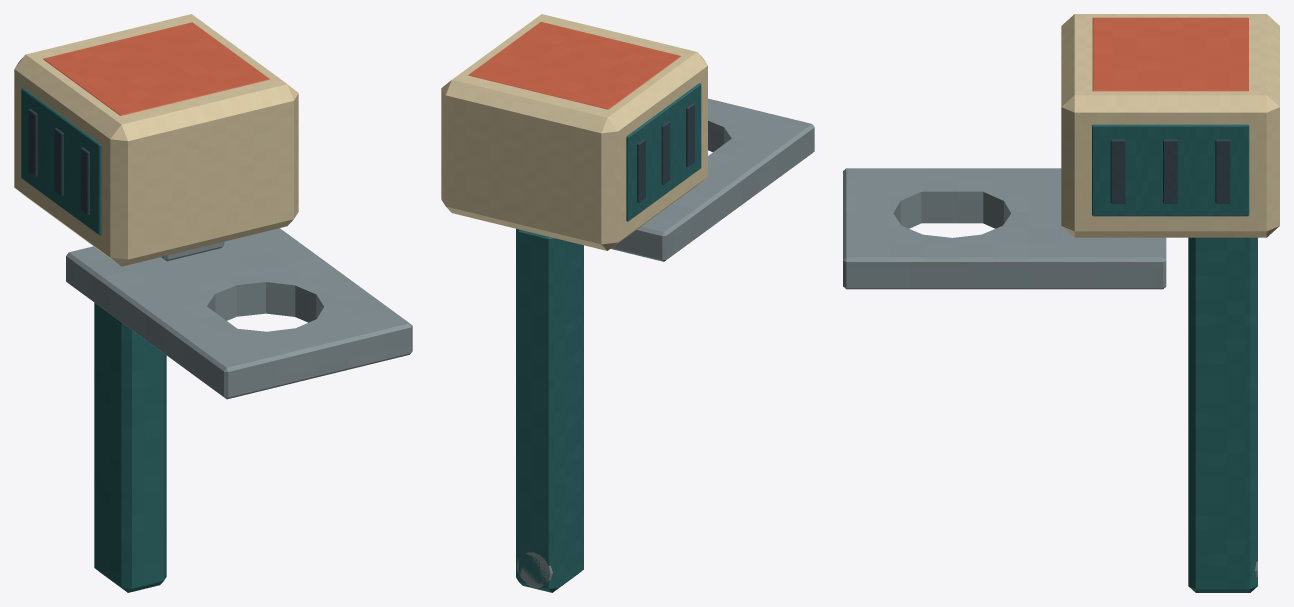
File: engine-lod-1.glb
3 views of the same model, side by side, from view 1: azimuth 30°, elevation 25°; view 2: azimuth 150°, elevation 25°; view 3: azimuth 270°, elevation 25° (orthographic). The views are drawn at different scales.
Parts seen in each view (by area): view 1: engine_lod_1; view 2: engine_lod_1; view 3: engine_lod_1.
Boxes of the visible parts, x1,y1,x2,y2 form: engine_lod_1: (14,14,412,592); engine_lod_1: (441,14,814,592); engine_lod_1: (843,14,1279,592).
Size of the model in its own units: 1.05 by 2.68 by 2.
1 material, 1 textured.
